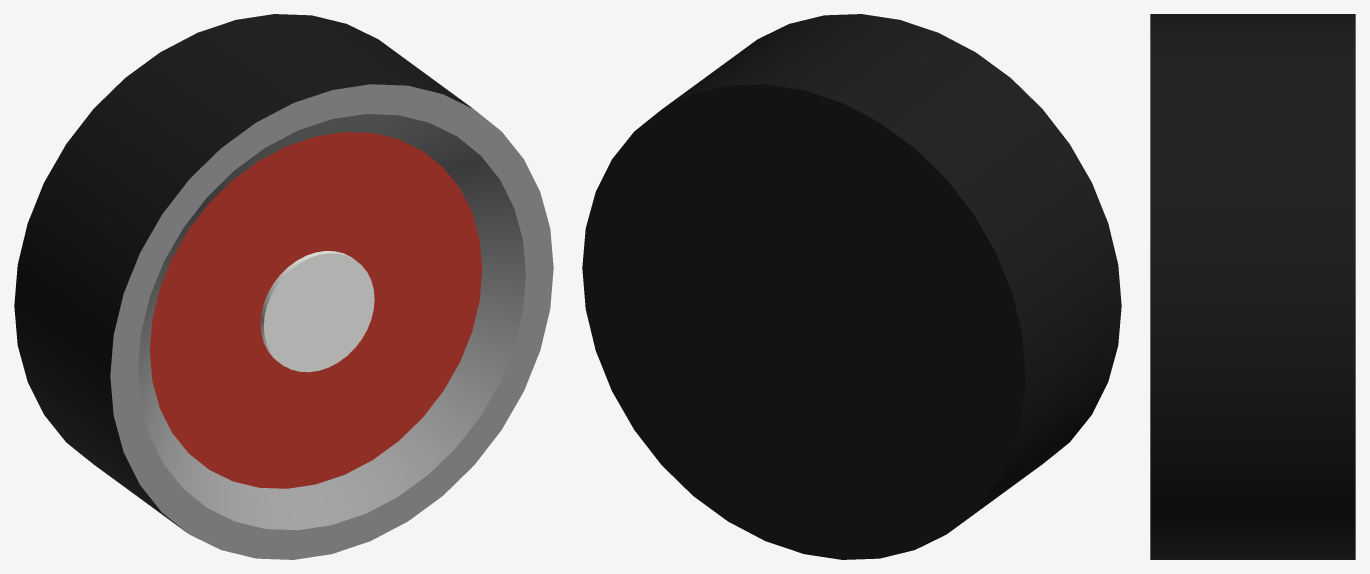
The model's file is Wheel.dae.
3 renders of one model, left to right at view 1: azimuth 30°, elevation 25°; view 2: azimuth 150°, elevation 25°; view 3: azimuth 270°, elevation 25°, orthographic. The views are drawn at different scales.
Parts seen in each view (by area): view 1: Body1_ncl1_4, Body1_ncl1_2, Body1_ncl1_6, Body1; view 2: Body1_ncl1_6; view 3: Body1_ncl1_6.
Boxes of the visible parts, <box> form: Body1_ncl1_4: <box>149,132,482,488</box>; Body1_ncl1_2: <box>110,84,553,559</box>; Body1_ncl1_6: <box>14,14,472,532</box>; Body1: <box>260,251,374,372</box>; Body1_ncl1_6: <box>582,14,1121,559</box>; Body1_ncl1_6: <box>1150,14,1355,559</box>.
Size of the model in its own units: 0.2032 by 0.2032 by 0.0762.
